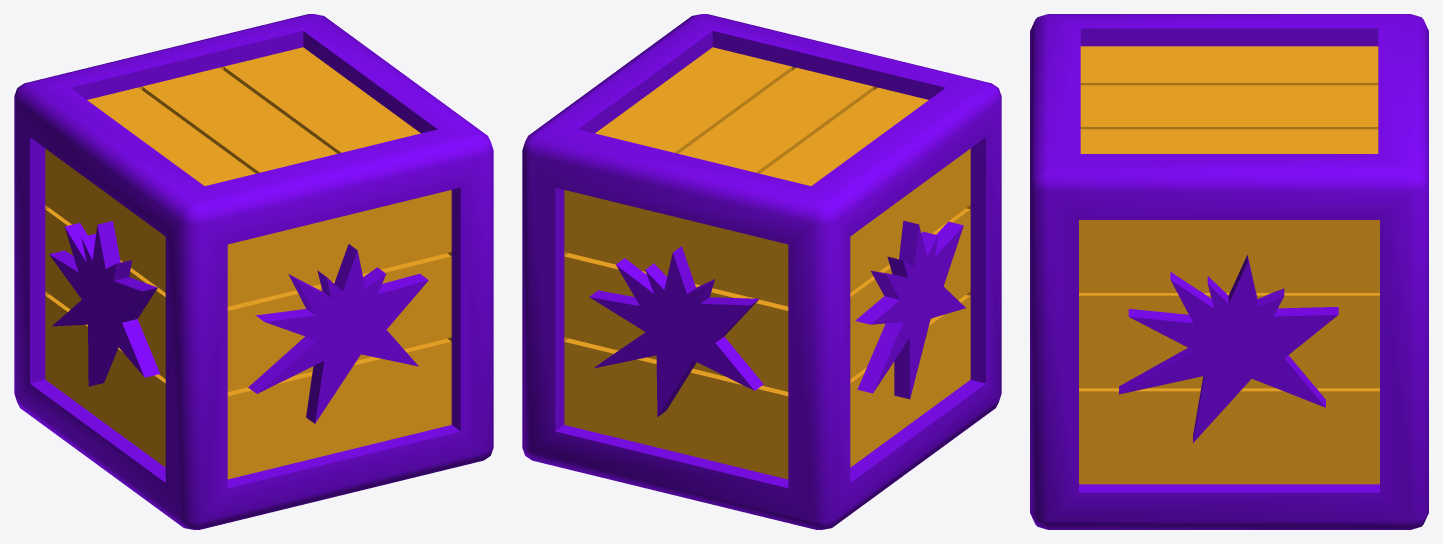
The model's file is Crate_06.fbx.
3 renders of one model, left to right at view 1: azimuth 30°, elevation 25°; view 2: azimuth 150°, elevation 25°; view 3: azimuth 270°, elevation 25°, orthographic. The views are drawn at different scales.
Visible parts, largest first — view 1: Obstacle_Crate_06; view 2: Obstacle_Crate_06; view 3: Obstacle_Crate_06.
Boxes of the visible parts, left/top/right/bottom form: Obstacle_Crate_06: left=14, top=14, right=493, bottom=529; Obstacle_Crate_06: left=522, top=14, right=1001, bottom=529; Obstacle_Crate_06: left=1030, top=14, right=1428, bottom=529.
Size of the model in its own units: 50.1 by 50 by 50.
Materials: 1 (1 with a texture image).
